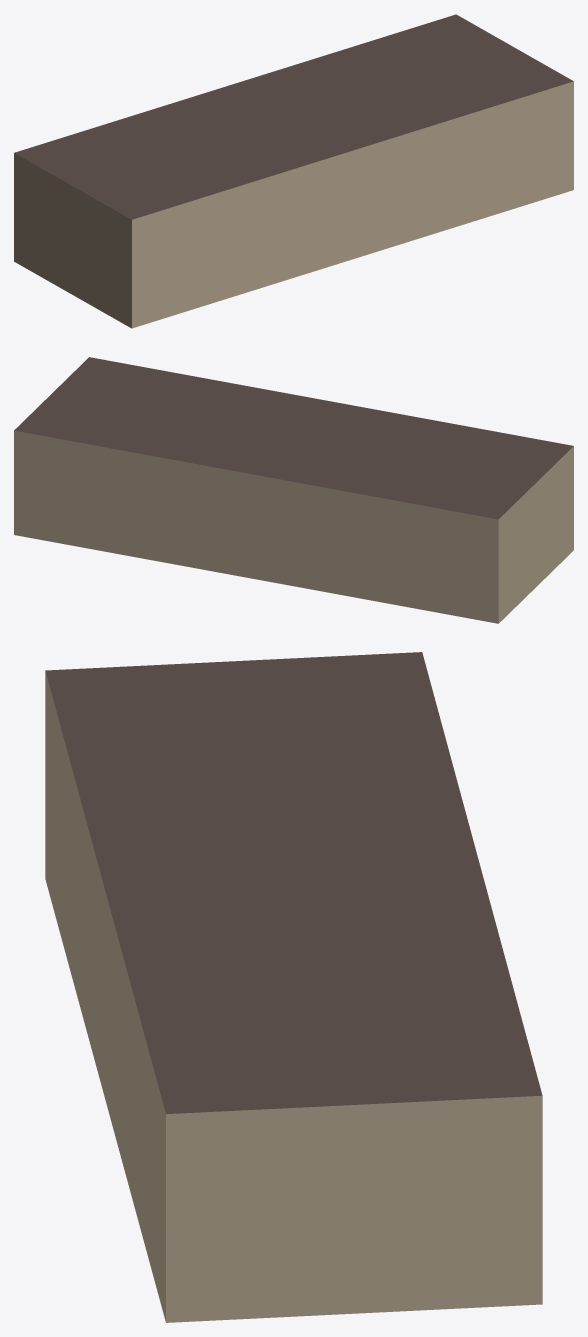
3 views of the same model, one above another, from view 1: azimuth 30°, elevation 25°; view 2: azimuth 150°, elevation 25°; view 3: azimuth 270°, elevation 25° (orthographic). The views are drawn at different scales.
Parts seen in each view (by area): view 1: HP-w859488882; view 2: HP-w859488882; view 3: HP-w859488882.
Boxes of the visible parts, left/top/right/bottom form: HP-w859488882: left=14, top=14, right=573, bottom=328; HP-w859488882: left=14, top=357, right=573, bottom=623; HP-w859488882: left=45, top=652, right=542, bottom=1322.
Bounding box in the file's own units: 42.73 × 9 × 19.42.
